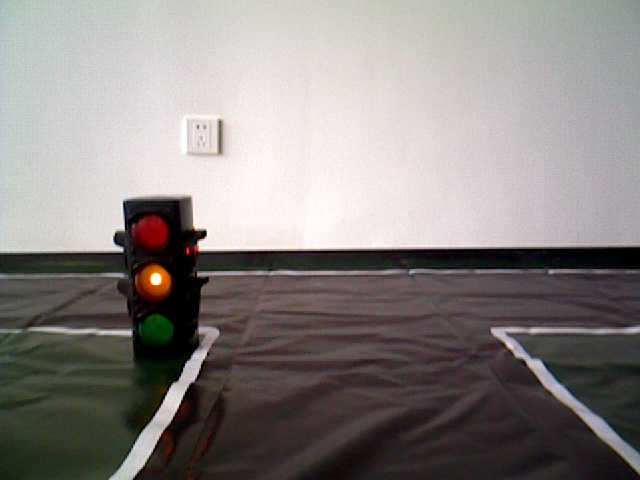yellow: (120, 199, 199, 345)
